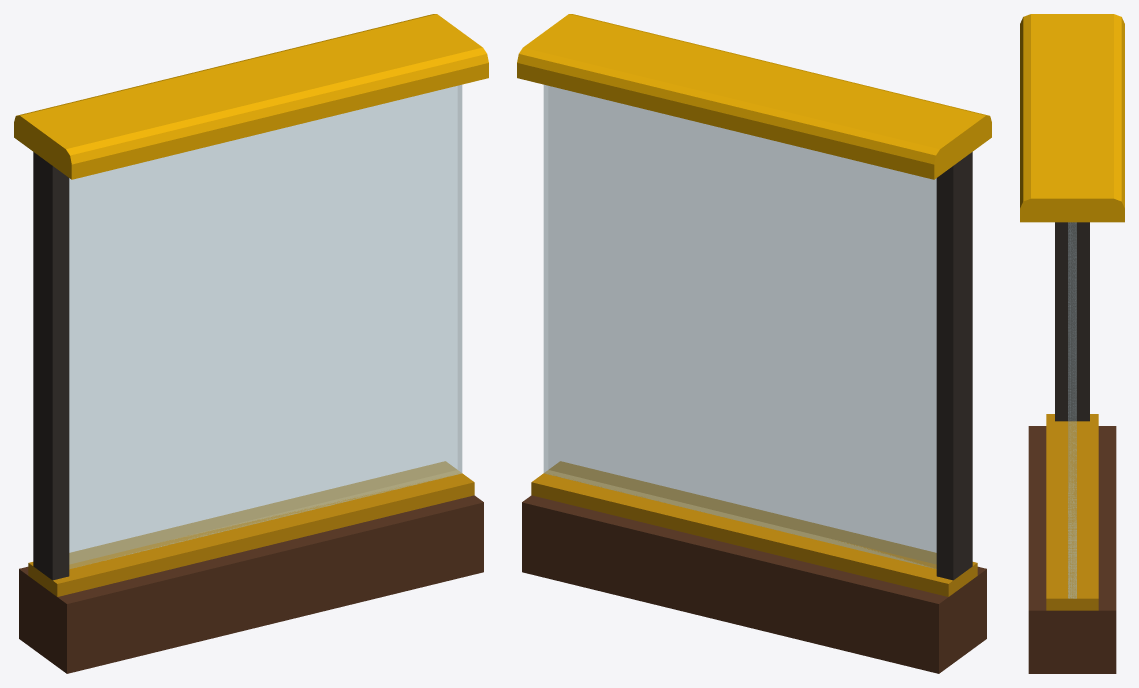
The model's file is wand_halb.glb.
The picture shows the model from 3 angles, left to right: view 1: azimuth 30°, elevation 25°; view 2: azimuth 150°, elevation 25°; view 3: azimuth 270°, elevation 25°; orthographic projection. The views are drawn at different scales.
Visible parts, largest first — view 1: wand_halb; view 2: wand_halb; view 3: wand_halb.
Boxes of the visible parts, x1=… form: wand_halb: x1=14, y1=14, x2=488, y2=673; wand_halb: x1=517, y1=14, x2=991, y2=673; wand_halb: x1=1020, y1=14, x2=1124, y2=673.
Size of the model in its own units: 1 by 1.2 by 0.24.
